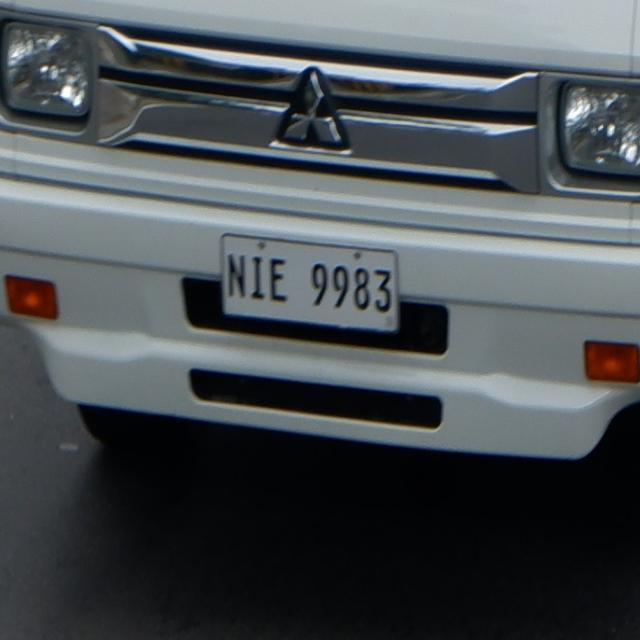LicensePlate: (189, 231, 412, 336)
